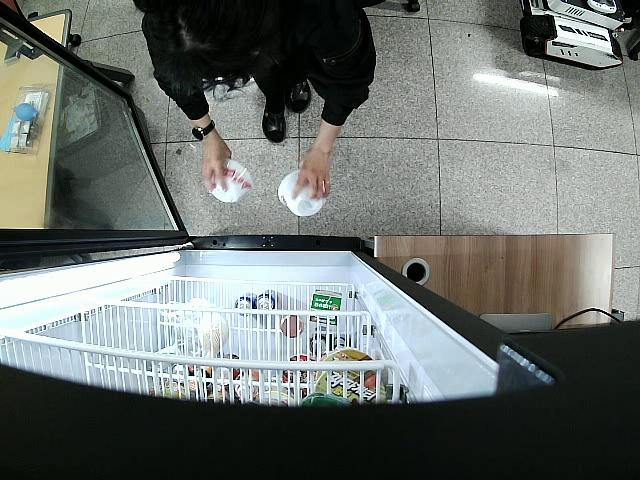00_hand: (291, 157, 331, 202), (201, 143, 231, 194)
09_yukGaeJang: (205, 157, 254, 205), (277, 170, 325, 217)
